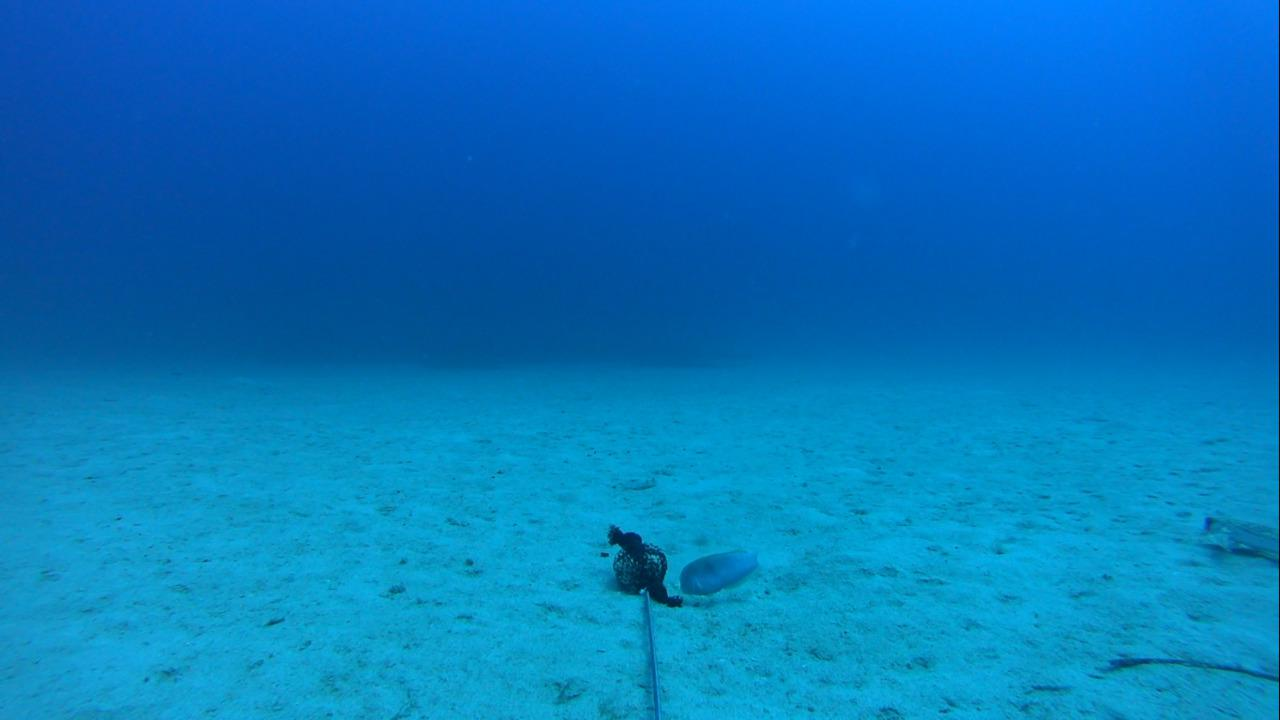bothus: (610, 475, 663, 491)
dactylopterus: (1197, 507, 1279, 581)
raor: (674, 546, 774, 595)
